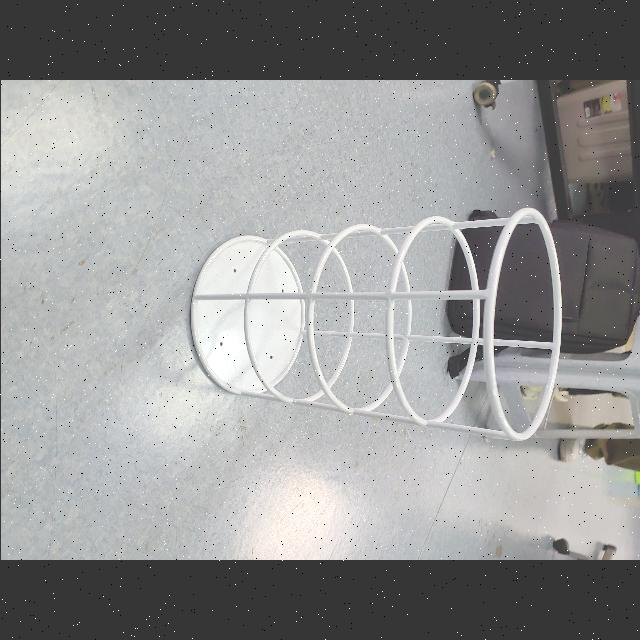S: (186, 204, 564, 446)
